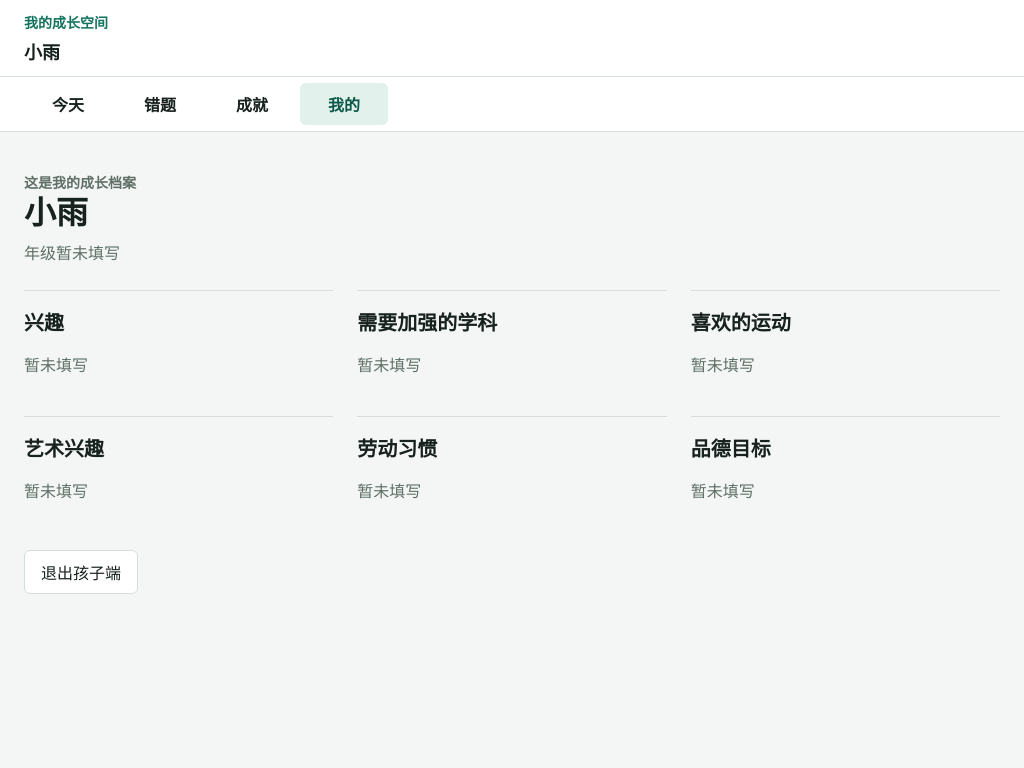
Test: child profile and logout › logout clears only child storage and replaces the login route
The width and height of the screenshot is (1024, 768).
Click the button "退出孩子端": click(81, 572) 24,550 -> 138,594
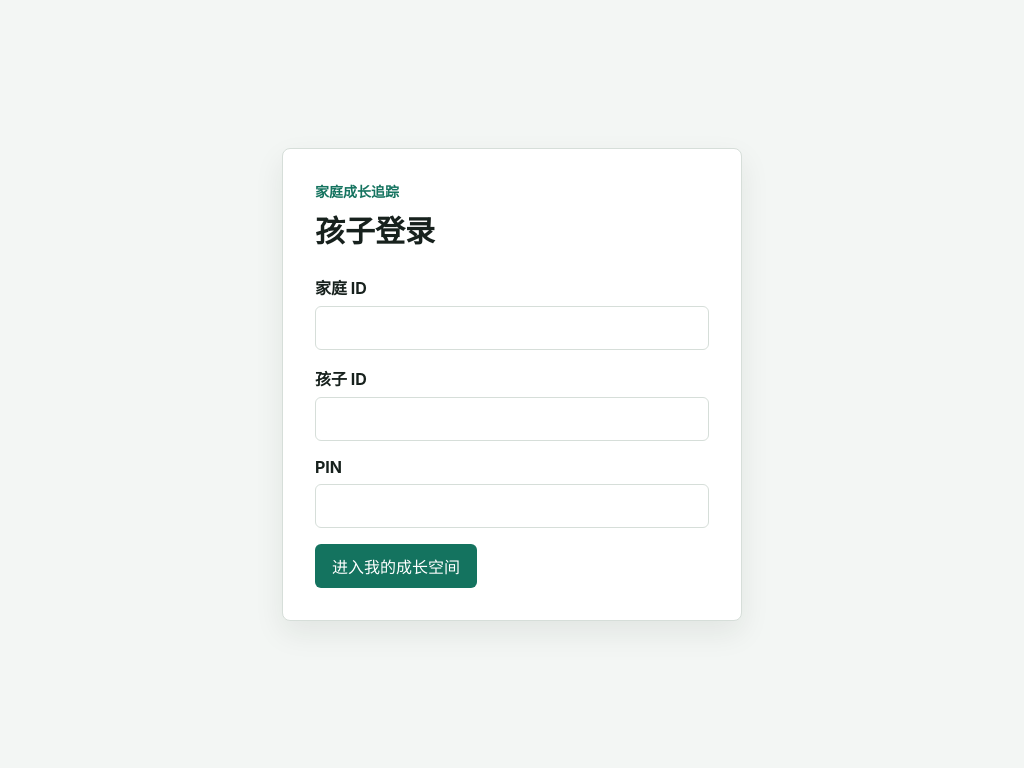
expect the heading "孩子登录" is shown: met, box 315,212 -> 435,248
